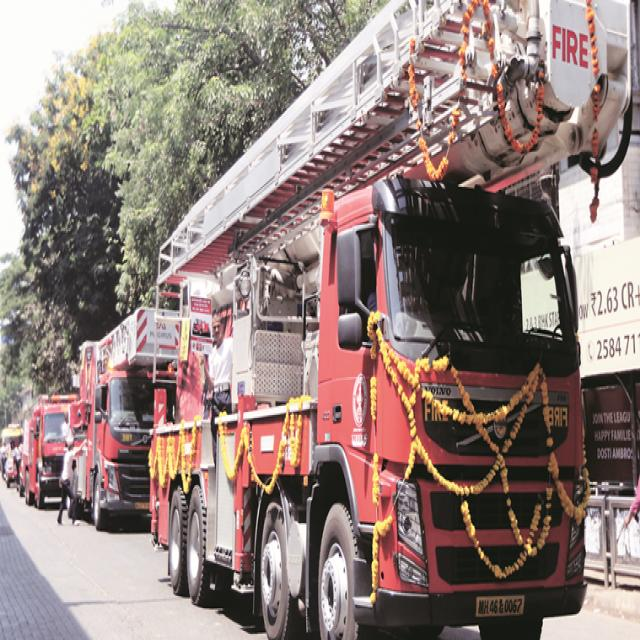emergency: (148, 0, 631, 638), (70, 309, 178, 530)
